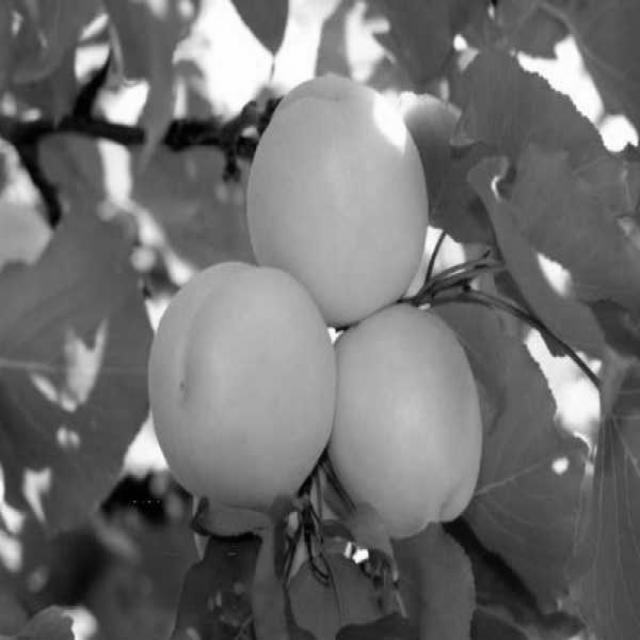Kayisi: (2, 210, 156, 574), (151, 260, 336, 496), (257, 83, 427, 328), (329, 304, 481, 538)
